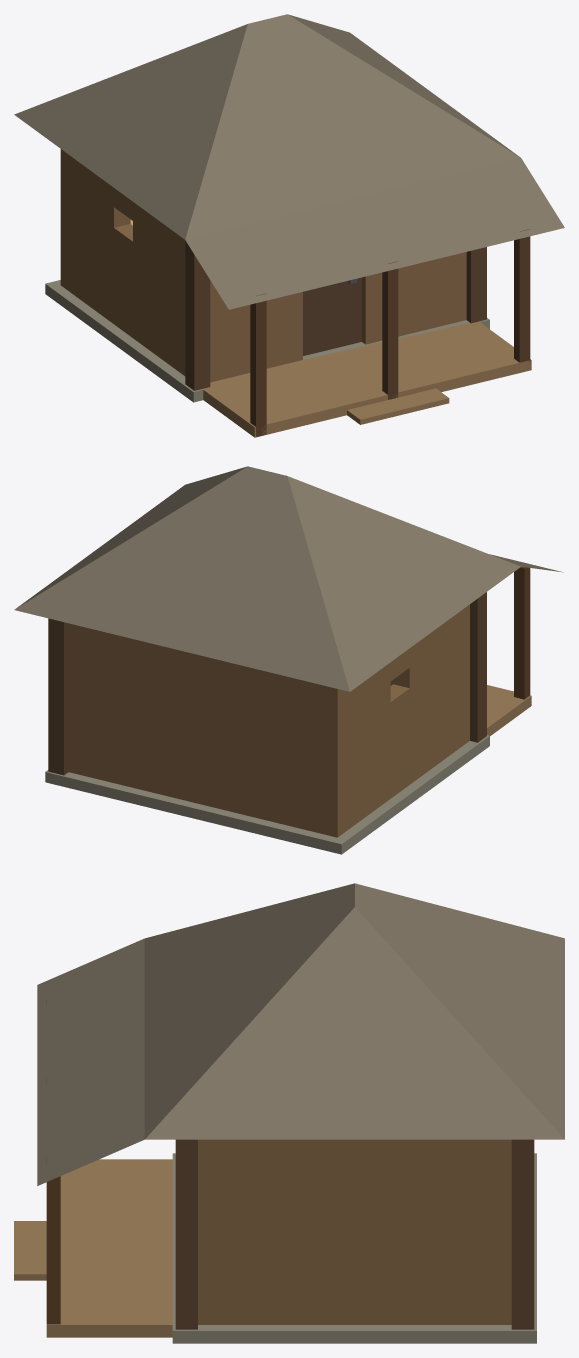
File: komora.glb
The picture shows the model from 3 angles, top to bottom: view 1: azimuth 30°, elevation 25°; view 2: azimuth 150°, elevation 25°; view 3: azimuth 270°, elevation 25°; orthographic projection. The views are drawn at different scales.
Parts seen in each view (by area): view 1: roof_south, porch_roof, roof_west, porch_deck, wall_west (×2), wall_south (×2), porch_post (×3), log_ends (×2), door_leaf, pryzba_w, roof_east, wall_west_sill (+3 smaller); view 2: wall_north, roof_north, roof_west, wall_west (×2), log_ends (×2), pryzba_n, pryzba_w, roof_east, porch_post, wall_west_sill, porch_deck, wall_east (+1 smaller); view 3: wall_east, roof_east, roof_south, roof_north, porch_roof, porch_deck, log_ends (×2), pryzba_e, wall_south, porch_post, porch_step, pryzba_s (+1 smaller).
Boxes of the visible parts, x1,y1,x2,y2 form: roof_south: [185, 14, 520, 239]; porch_roof: [185, 158, 564, 309]; roof_west: [14, 24, 247, 239]; porch_deck: [203, 321, 531, 437]; wall_west (×2): [60, 149, 210, 375]; wall_south (×2): [210, 252, 466, 382]; porch_post (×3): [250, 229, 530, 437]; log_ends (×2): [185, 240, 486, 390]; door_leaf: [303, 277, 361, 355]; pryzba_w: [51, 285, 189, 397]; roof_east: [288, 14, 519, 156]; wall_west_sill: [114, 224, 132, 337]; wall_north: [68, 623, 346, 837]; roof_north: [14, 466, 349, 691]; roof_west: [287, 476, 520, 691]; wall_west (×2): [321, 608, 464, 836]; log_ends (×2): [48, 592, 486, 775]; pryzba_n: [45, 770, 347, 854]; pryzba_w: [338, 739, 484, 850]; roof_east: [16, 466, 246, 608]; porch_post: [514, 562, 530, 699]; wall_west_sill: [390, 684, 409, 798]; porch_deck: [487, 685, 531, 735]; wall_east: [68, 624, 77, 773]; wall_east: [198, 1139, 511, 1324]; roof_east: [145, 907, 564, 1139]; roof_south: [144, 883, 354, 1139]; roof_north: [355, 883, 564, 1139]; porch_roof: [37, 938, 144, 1185]; porch_deck: [46, 1159, 172, 1337]; log_ends (×2): [175, 1139, 534, 1329]; pryzba_e: [186, 1325, 522, 1343]; wall_south: [198, 1139, 209, 1324]; porch_post: [46, 1157, 60, 1324]; porch_step: [14, 1221, 46, 1280]; pryzba_s: [172, 1153, 186, 1343].
Size of the model in its own units: 5.1 by 4.25 by 5.9.
